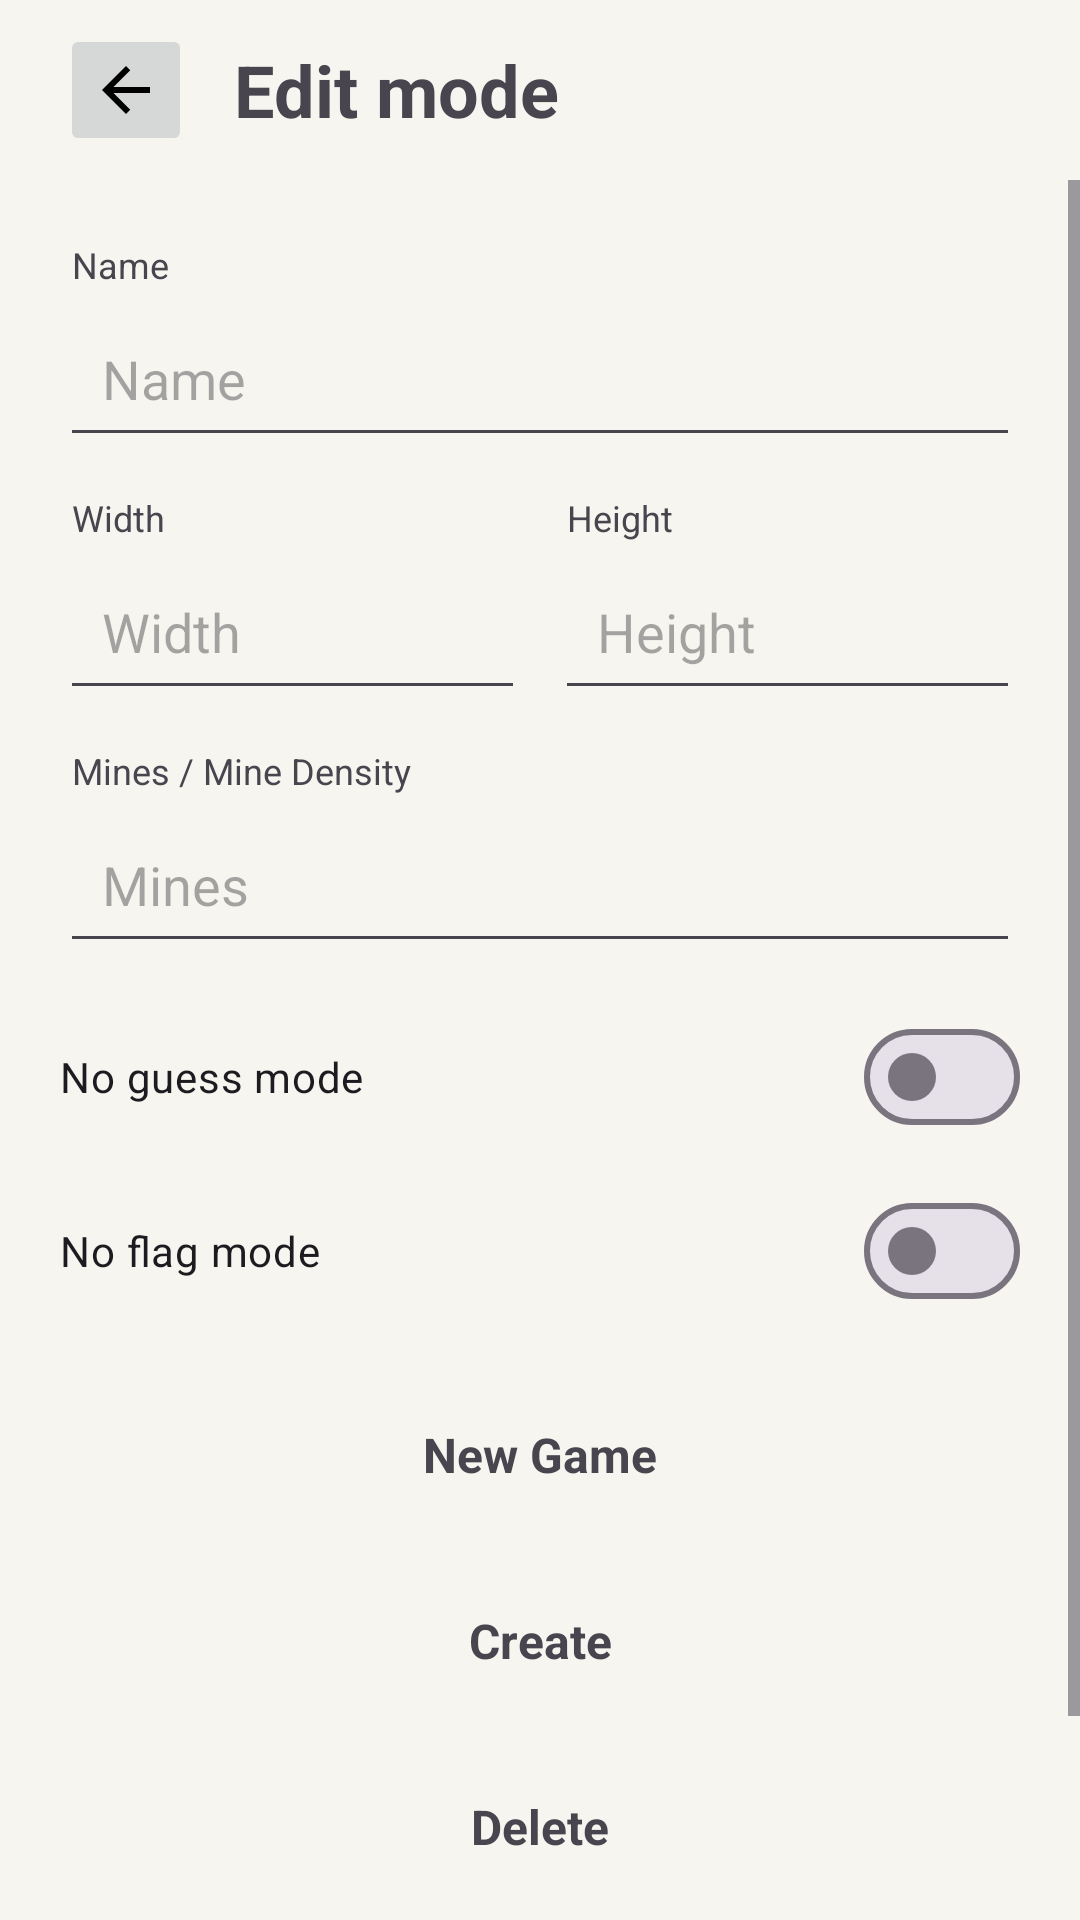

Icon bounding boxes for this 1080px×1920px phone screenshot, format (x1, y1, x2, y2):
arrow back: (72, 42, 180, 138)
